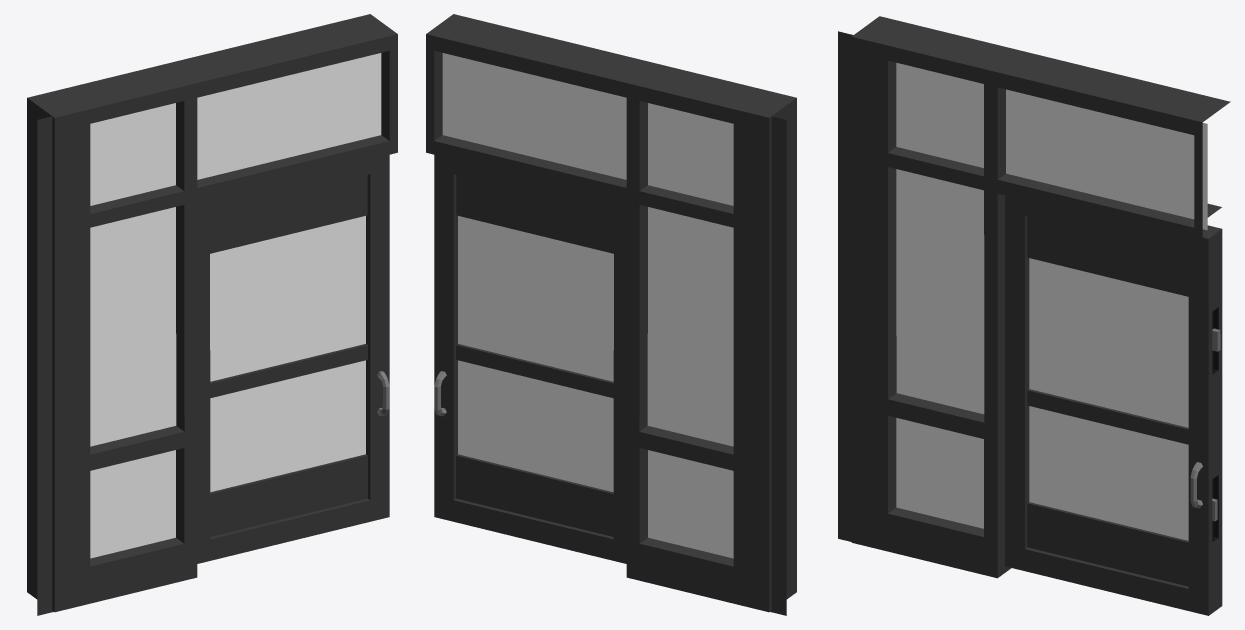
Rendered from PoliceMainDoor.glb.
3 renders of one model, left to right at view 1: azimuth 30°, elevation 25°; view 2: azimuth 150°, elevation 25°; view 3: azimuth 330°, elevation 25°, orthographic. The views are drawn at different scales.
Parts seen in each view (by area): view 1: Frame, FrameGlass, Door, DoorGlass; view 2: Frame, FrameGlass, Door, DoorGlass; view 3: Frame, FrameGlass, Door, DoorGlass.
Part boxes in pixels (box(x1,y1,x2,y2)): Frame: box(27, 14, 397, 615); FrameGlass: box(90, 53, 381, 558); Door: box(197, 155, 389, 563); DoorGlass: box(210, 216, 365, 492); Frame: box(426, 14, 796, 615); FrameGlass: box(442, 53, 733, 558); Door: box(434, 155, 626, 563); DoorGlass: box(458, 216, 613, 492); Frame: box(838, 16, 1230, 578); FrameGlass: box(896, 62, 1207, 528); Door: box(1005, 195, 1222, 615); DoorGlass: box(1029, 258, 1188, 540).
Bounding box in the file's own units: 2.66 × 3.51 × 0.3573.
Materials: 2 (1 with a texture image).
